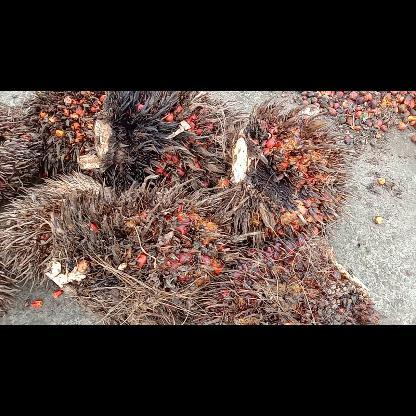Terlalu masak: (53, 176, 249, 324), (232, 96, 356, 244), (80, 92, 238, 194), (197, 240, 379, 324), (0, 171, 112, 286), (27, 91, 105, 173), (0, 106, 42, 196)
